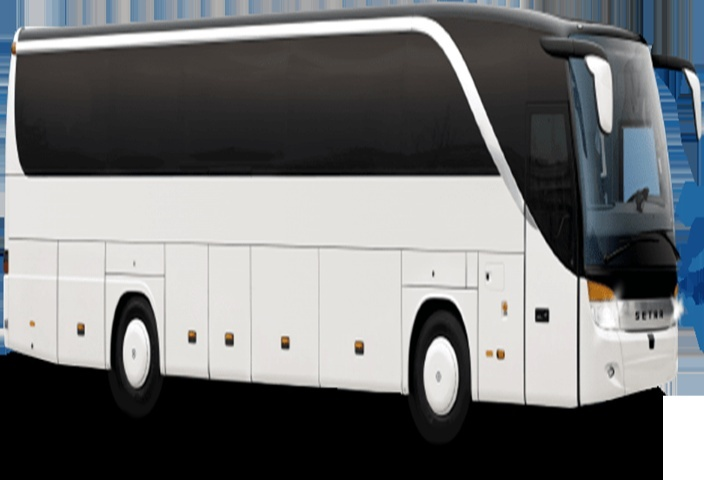bus: (1, 14, 690, 423)
